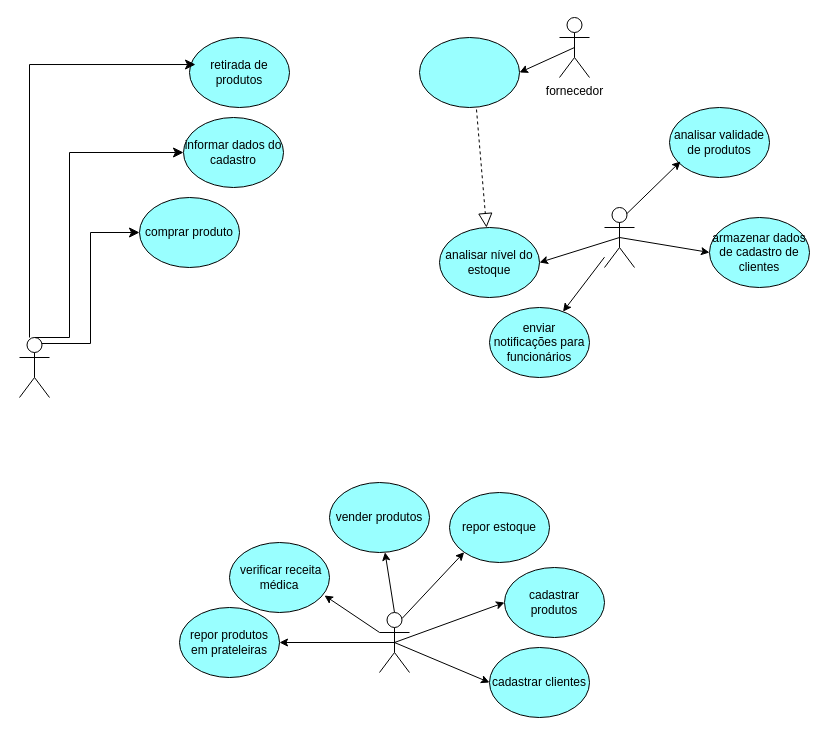
The diagram is 827 pixels wide and 735 high, and some of its shapes have lost their labels. The shapes that lost their labels are listed below. From the top down, each one's centre as x and y in pixels, then its label:
At (469,72): "repor estoque da loja".
At (619,237): "sistema".
At (34,367): "cliente".
At (394,642): "atendente".
